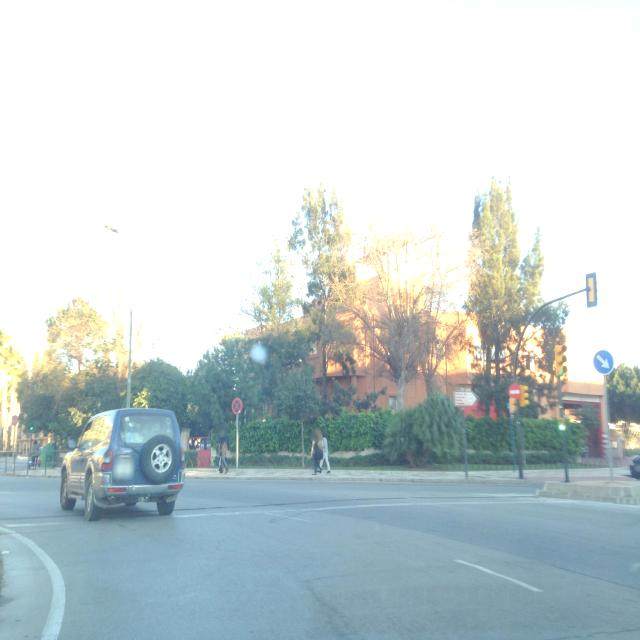car: (60, 407, 186, 521), (629, 450, 640, 480)
